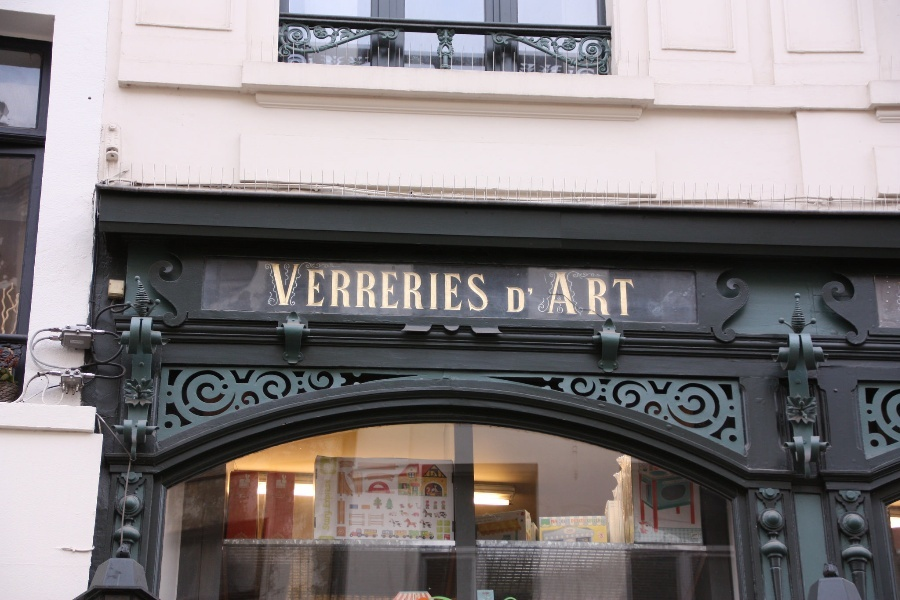text: (273, 262, 288, 312), (289, 262, 304, 312), (305, 262, 320, 312), (321, 262, 336, 312), (337, 262, 352, 312), (353, 262, 368, 312), (369, 262, 384, 312), (385, 262, 400, 312), (401, 262, 416, 312), (417, 262, 432, 312), (433, 262, 448, 312), (449, 262, 464, 312), (465, 262, 480, 312), (561, 271, 576, 316), (577, 271, 592, 316), (593, 271, 608, 316), (609, 271, 624, 316), (548, 271, 560, 316), (481, 262, 490, 312), (625, 271, 635, 316), (513, 286, 528, 313), (325, 479, 336, 508), (325, 510, 336, 531), (506, 286, 512, 313), (269, 262, 272, 312), (529, 286, 533, 313), (481, 515, 496, 521), (481, 519, 492, 524), (593, 519, 605, 523), (551, 520, 560, 524), (561, 519, 570, 523), (577, 519, 585, 523), (475, 515, 480, 521), (474, 519, 480, 524), (571, 519, 576, 523), (587, 519, 592, 523), (497, 515, 500, 521), (545, 524, 549, 528), (541, 524, 544, 528), (559, 519, 560, 523)
